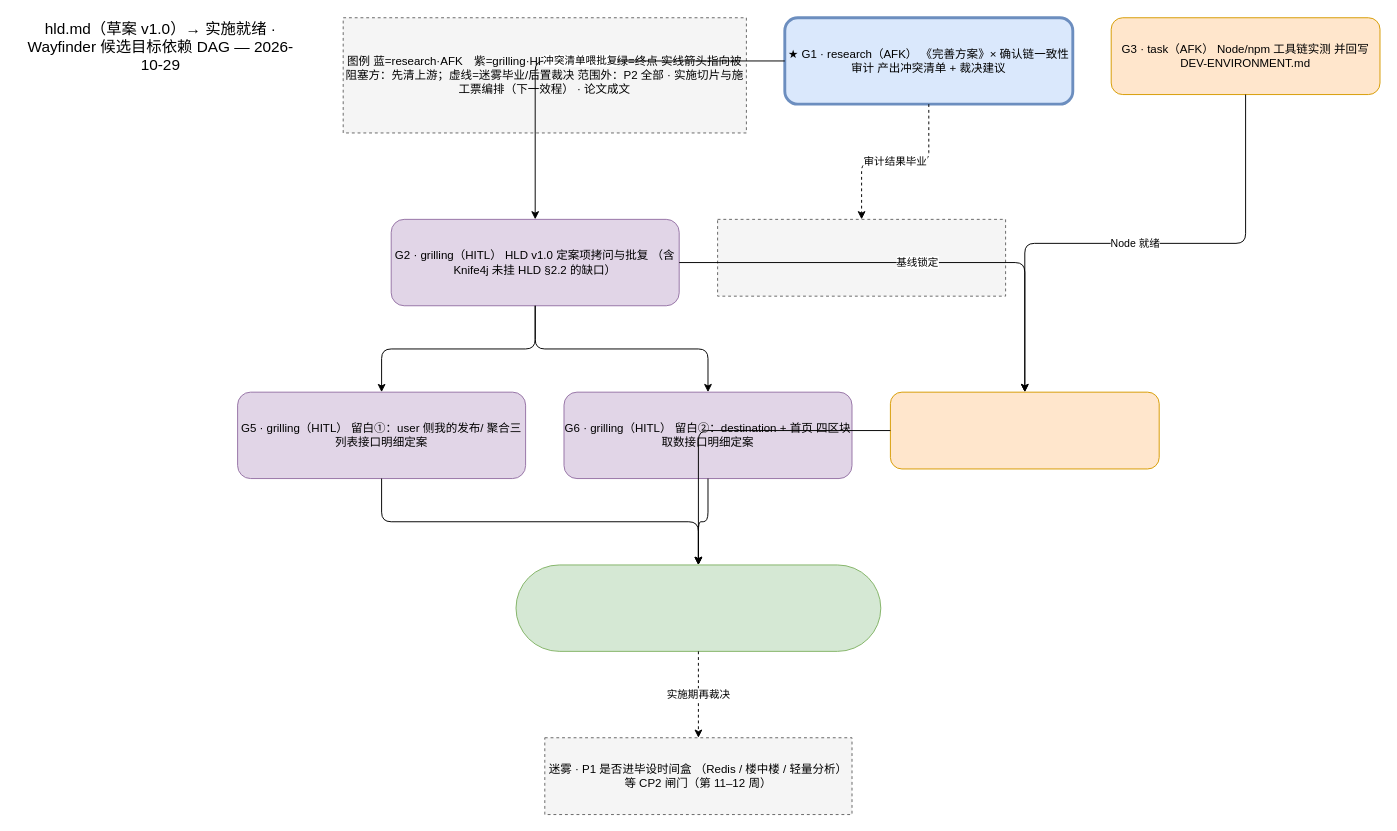
Image size: 1397x831. Some labels were removed from this diagram. Each missing label, with the box of its shape:
G4 · task（AFK） 前后端工程骨架 + /api 代理冒烟: (889, 391, 1159, 469)
终点 · 地图走完 实施就绪：批复 · 链对齐 · 留白补齐 · 骨架立起 → 交接施工票 / create-plan: (515, 564, 881, 651)
迷雾 · 由 G1 结果毕业 新冲突 → 新票 （接口语义 / 依赖细节 / 进度对齐）: (717, 218, 1006, 296)
